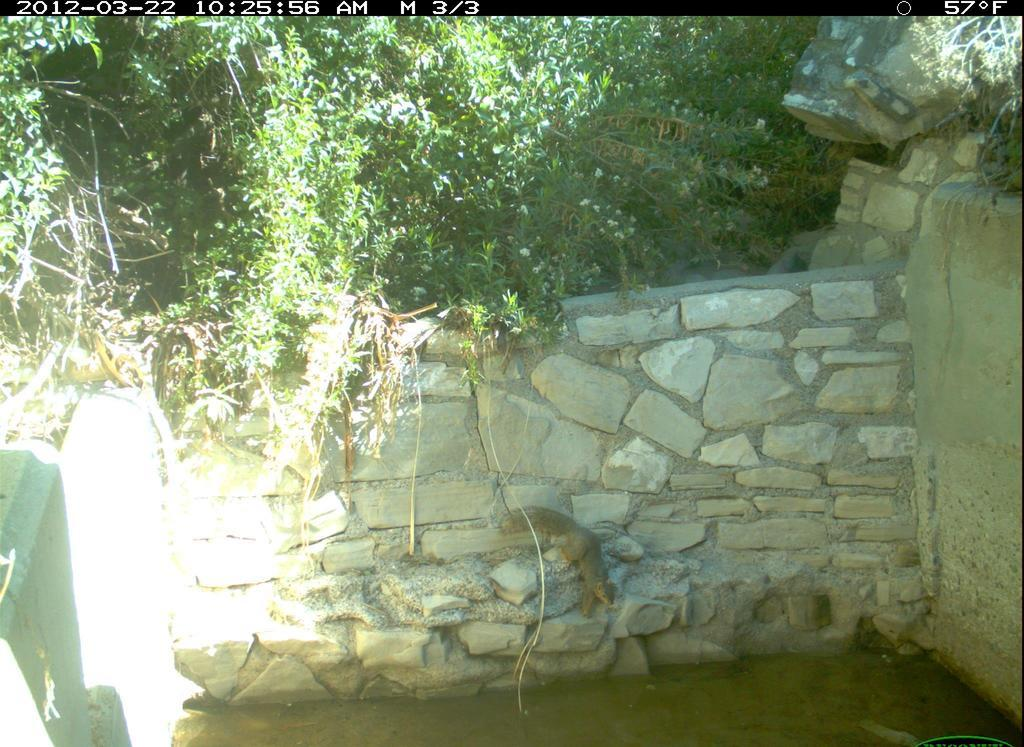squirrel: (489, 503, 626, 622)
